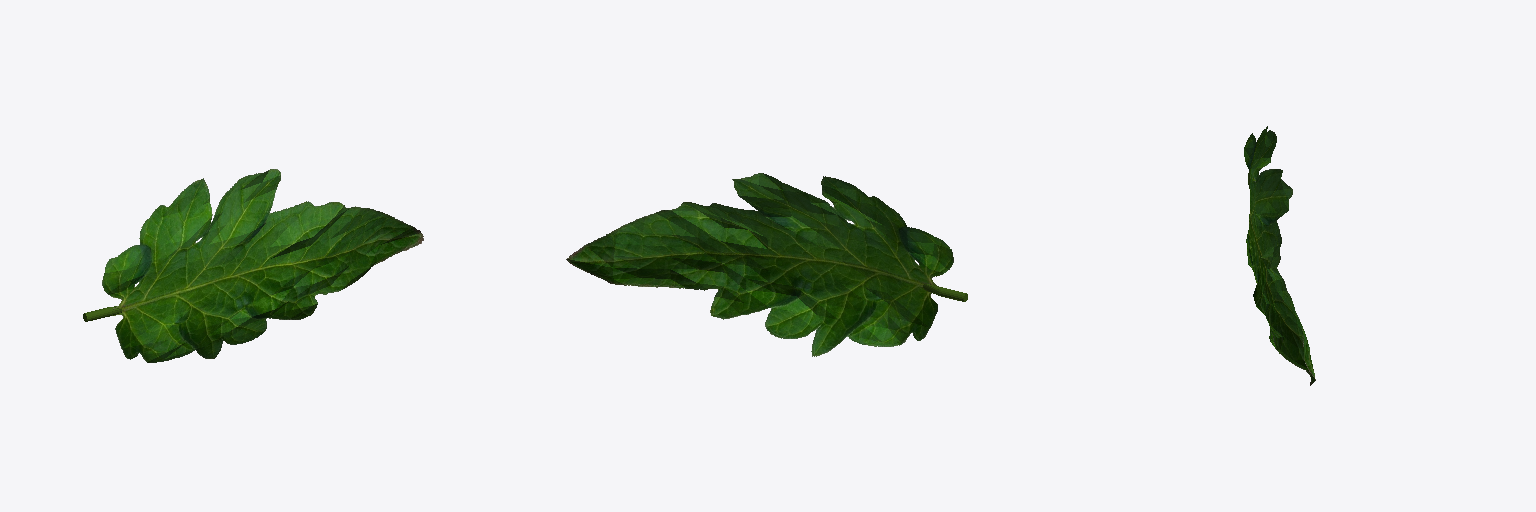
3 views of the same model, side by side, from view 1: azimuth 30°, elevation 25°; view 2: azimuth 150°, elevation 25°; view 3: azimuth 270°, elevation 25° (orthographic).
Parts seen in each view (by area): view 1: leaf; view 2: leaf; view 3: leaf.
Part boxes in pixels (bbox=[...]): leaf: bbox=[102, 169, 423, 362]; leaf: bbox=[566, 173, 953, 356]; leaf: bbox=[1244, 126, 1315, 385].
Bounding box in the file's own units: 1.04 × 0.5009 × 0.176.
2 materials, 1 textured.